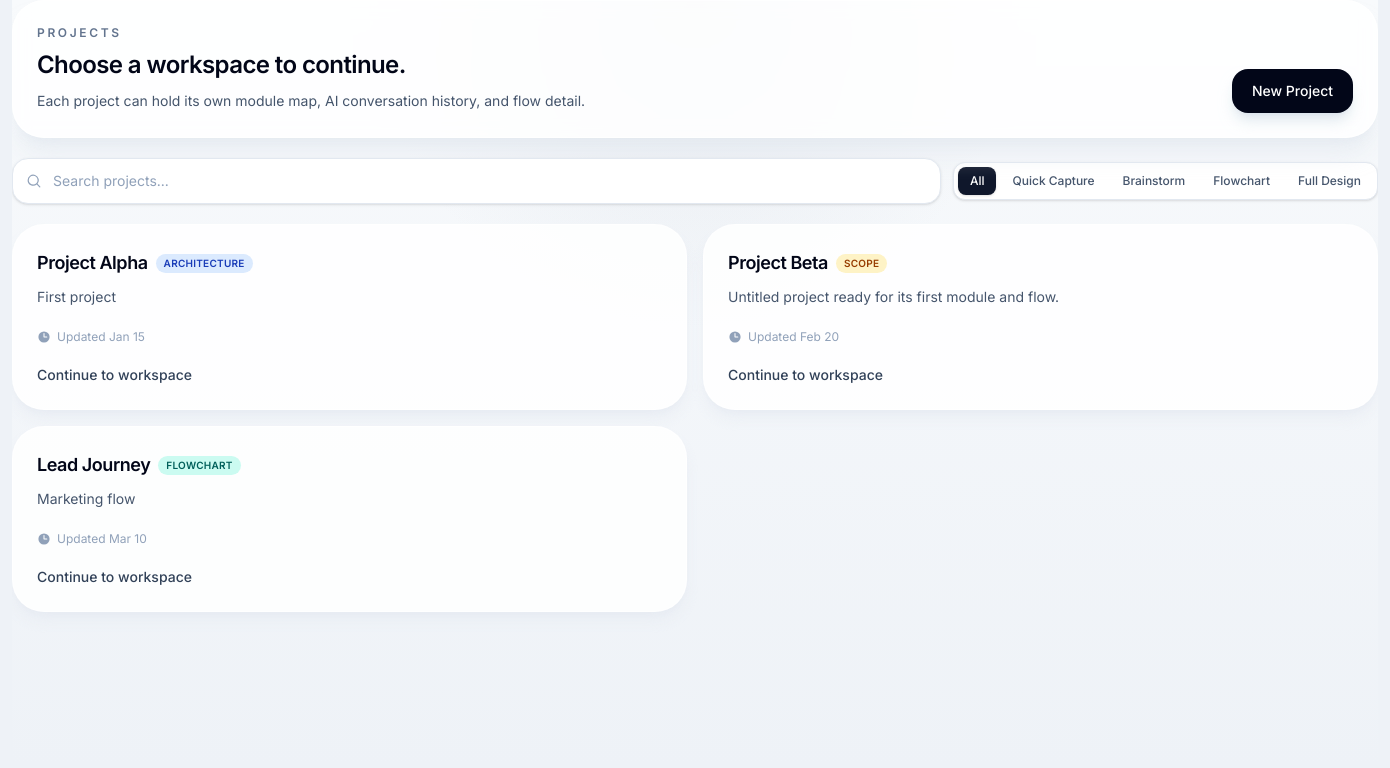
Test: ProjectList › can dismiss the mode selector
The image size is (1390, 768).
Click the button "New Project": [1292, 91] box [1232, 69, 1353, 113]
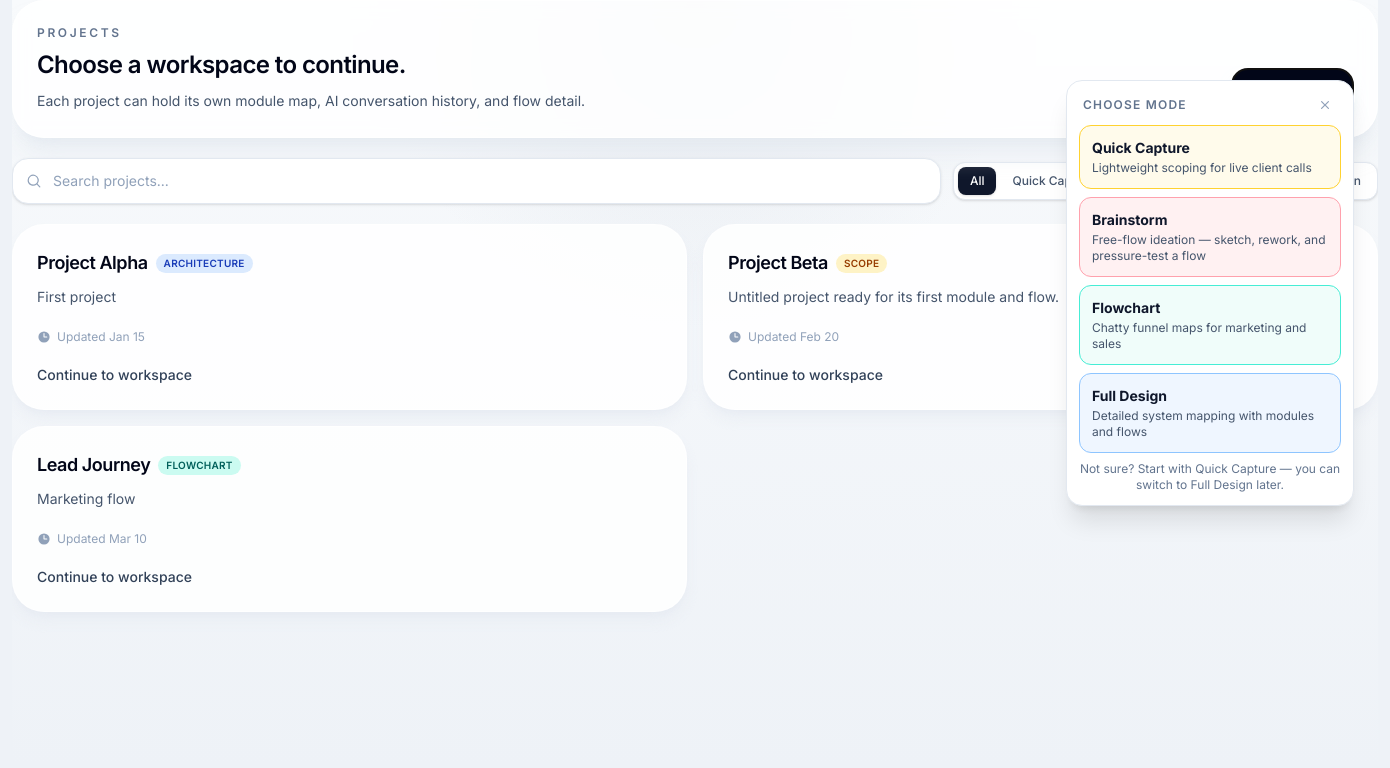
Expected: the element with test id "mode-selector" is shown, [1066, 80, 1354, 506]
Click the button named "dismiss": [1325, 105] box [1313, 93, 1337, 117]
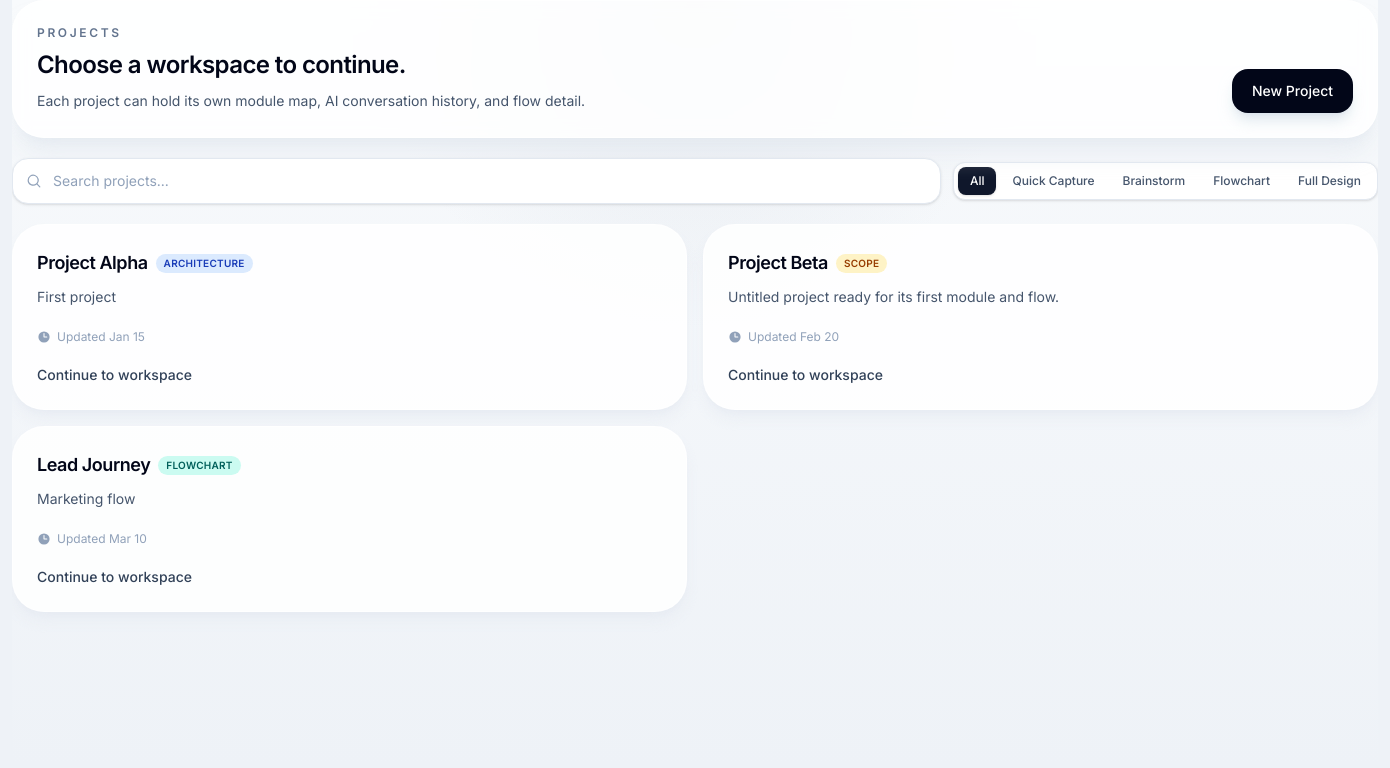
Expected: the element with test id "mode-selector" is gone
